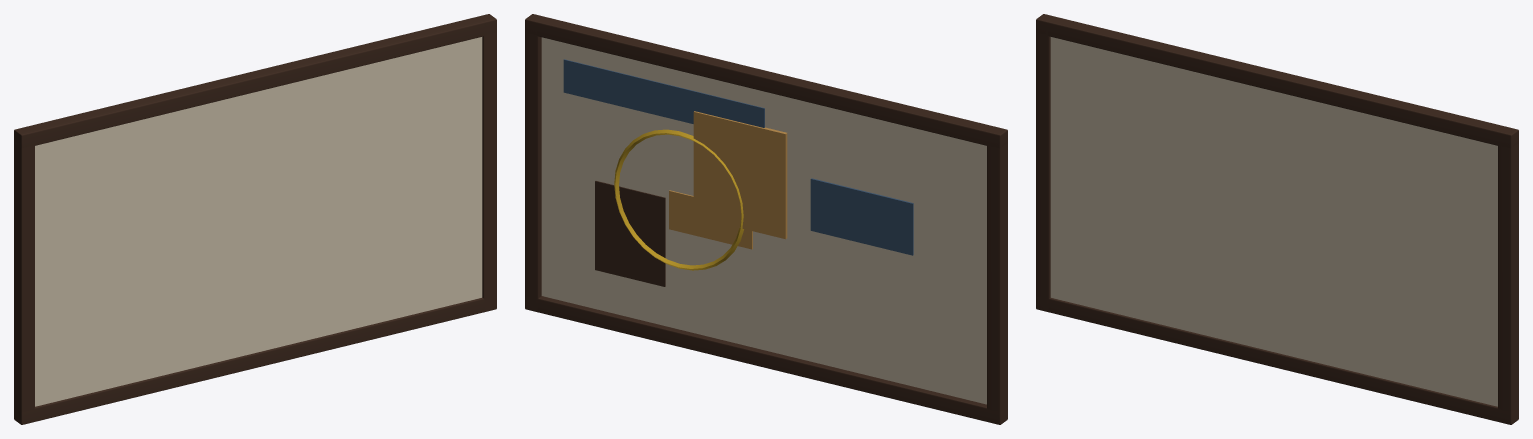
Rendered from prop_wall_art_c.glb.
The picture shows the model from 3 angles, left to right: view 1: azimuth 30°, elevation 25°; view 2: azimuth 150°, elevation 25°; view 3: azimuth 330°, elevation 25°; orthographic projection.
Visible parts, largest first — view 1: Art; view 2: Art; view 3: Art.
Part boxes in pixels (bbox=[...]): Art: bbox=[14, 14, 496, 424]; Art: bbox=[525, 14, 1007, 424]; Art: bbox=[1036, 14, 1518, 424].
Bounding box in the file's own units: 1.2 × 0.7 × 0.035.
